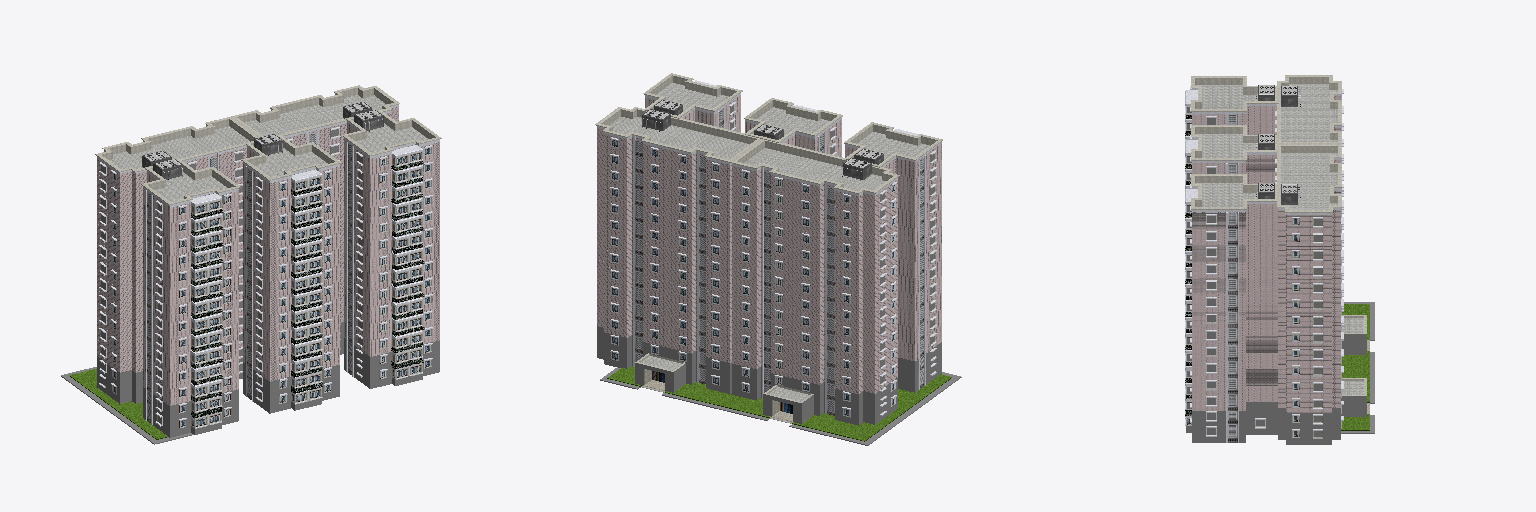
3 views of the same model, side by side, from view 1: azimuth 30°, elevation 25°; view 2: azimuth 150°, elevation 25°; view 3: azimuth 270°, elevation 25° (orthographic).
Parts seen in each view (by area): view 1: high_building8, unit1_floor_014, unit1_floor_1, unit3_floor_018, unit1_floor_013, unit1_floor_006, unit1_floor_3, unit1_floor_005, unit1_floor_009, unit1_floor_011, unit1_floor_008, unit1_floor_004 (+28 smaller); view 2: high_building8, unit1_floor_014, unit1_floor_007, unit1_floor_3, unit1_floor_005, unit1_floor_008, unit1_floor_010, unit1_floor_011, unit1_floor_004, unit1_floor_012, unit1_floor_006, unit1_floor_009 (+28 smaller); view 3: high_building8, unit3_foor_1, unit3_floor_018, unit3_floor_016, unit3_floor_014, unit3_floor_010, unit3_floor_012, unit3_floor_008, unit3_floor_009, unit3_floor_3, unit3_floor_013, unit3_floor_015 (+7 smaller).
Part boxes in pixels (x1,y1,x2,y2): high_building8: (61, 85, 441, 444); unit1_floor_014: (97, 151, 238, 223); unit1_floor_1: (97, 367, 238, 437); unit3_floor_018: (300, 107, 439, 174); unit1_floor_013: (97, 169, 238, 239); unit1_floor_006: (97, 284, 238, 355); unit1_floor_3: (97, 338, 238, 405); unit1_floor_005: (97, 302, 238, 372); unit1_floor_009: (97, 235, 238, 305); unit1_floor_011: (97, 204, 238, 272); unit1_floor_008: (97, 253, 238, 322); unit1_floor_004: (97, 320, 238, 388); high_building8: (595, 73, 961, 445); unit1_floor_014: (771, 129, 941, 211); unit1_floor_007: (771, 259, 941, 327); unit1_floor_3: (771, 326, 941, 393); unit1_floor_005: (771, 292, 941, 360); unit1_floor_008: (771, 243, 941, 310); unit1_floor_010: (771, 210, 941, 277); unit1_floor_011: (771, 193, 941, 261); unit1_floor_004: (771, 309, 941, 377); unit1_floor_012: (771, 176, 941, 244); unit1_floor_006: (771, 276, 941, 344); unit1_floor_009: (771, 226, 941, 294); high_building8: (1191, 75, 1374, 433); unit3_foor_1: (1185, 415, 1343, 444); unit3_floor_018: (1185, 170, 1343, 231); unit3_floor_016: (1185, 217, 1343, 264); unit3_floor_014: (1185, 250, 1343, 297); unit3_floor_010: (1185, 316, 1343, 363); unit3_floor_012: (1185, 283, 1343, 330); unit3_floor_008: (1185, 349, 1343, 396); unit3_floor_009: (1185, 332, 1343, 379); unit3_floor_3: (1185, 366, 1343, 412); unit3_floor_013: (1185, 266, 1343, 313); unit3_floor_015: (1185, 233, 1343, 280).
Size of the model in its own units: 615 by 478 by 344.
16 materials, 13 textured.